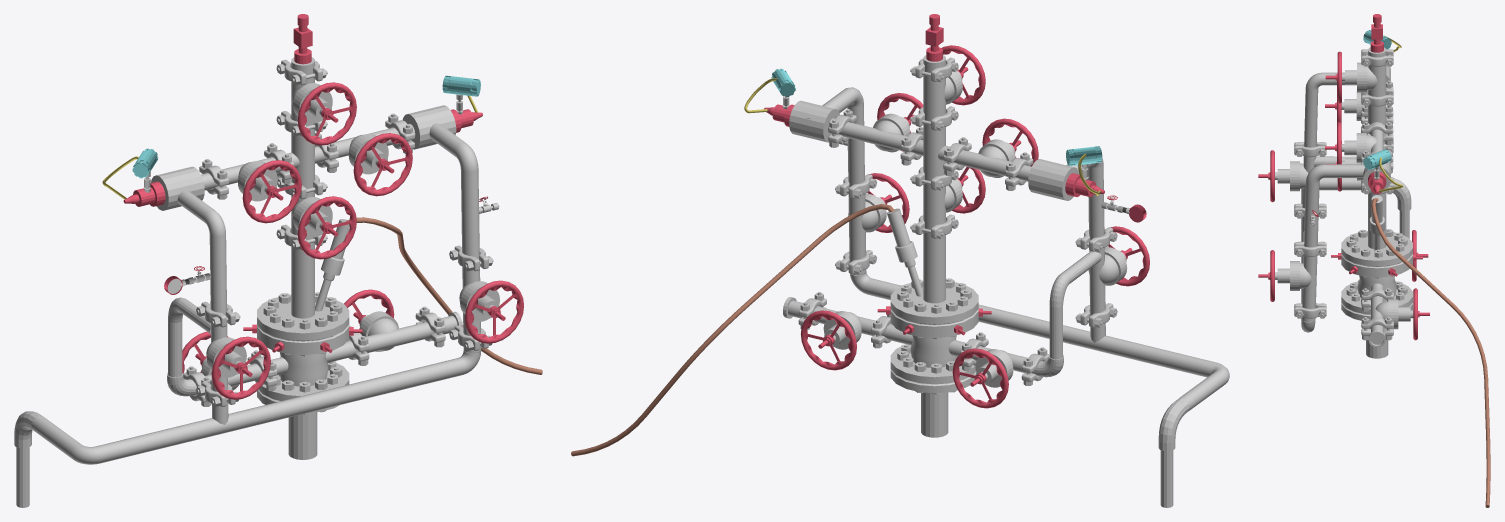
Rendered from shebei1.glb.
3 views of the same model, side by side, from view 1: azimuth 30°, elevation 25°; view 2: azimuth 150°, elevation 25°; view 3: azimuth 270°, elevation 25° (orthographic). The views are drawn at different scales.
Visible parts, largest first — view 1: Line017, Cylinder074, Cylinder079, 对象138, Cylinder076, 对象139, 对象140, Torus005, Torus007, Torus008, Torus006, Torus004 (+7 smaller); view 2: Line017, Cylinder074, Cylinder079, 对象138, Cylinder076, Line018, 对象139, Cylinder075, Torus010, Torus011, 对象140, Torus008 (+7 smaller); view 3: 对象138, 对象139, Cylinder074, Line018, 对象140, Line017, Cylinder075, Torus007, Torus009, Torus008, Torus010, Cylinder079 (+6 smaller).
Part boxes in pixels (x1,y1,x2,y2): Line017: [14, 350, 481, 507]; Cylinder074: [279, 57, 328, 459]; Cylinder079: [123, 105, 482, 210]; 对象138: [243, 292, 362, 356]; Cylinder076: [167, 297, 462, 396]; 对象139: [429, 123, 481, 352]; 对象140: [177, 190, 228, 424]; Torus005: [348, 133, 412, 196]; Torus007: [459, 280, 523, 343]; Torus008: [206, 336, 270, 399]; Torus006: [292, 196, 356, 259]; Torus004: [238, 160, 301, 223]; Line017: [850, 271, 1229, 507]; Cylinder074: [910, 55, 957, 437]; Cylinder079: [764, 100, 1104, 200]; 对象138: [877, 278, 991, 339]; Cylinder076: [783, 251, 1101, 377]; Line018: [571, 204, 923, 456]; 对象139: [806, 87, 866, 275]; Cylinder075: [890, 344, 976, 394]; Torus010: [800, 310, 861, 370]; Torus011: [952, 348, 1013, 408]; 对象140: [1066, 158, 1105, 342]; Torus008: [1088, 226, 1149, 286]; 对象138: [1331, 229, 1422, 278]; 对象139: [1302, 164, 1388, 322]; Cylinder074: [1357, 47, 1396, 358]; Line018: [1369, 195, 1490, 507]; 对象140: [1301, 72, 1356, 231]; Line017: [1301, 178, 1411, 332]; Cylinder075: [1341, 279, 1412, 320]; Torus007: [1258, 250, 1311, 301]; Torus009: [1325, 51, 1377, 103]; Torus008: [1258, 150, 1308, 202]; Torus010: [1375, 288, 1429, 340]; Cylinder079: [1363, 65, 1390, 194].
Bounding box in the file's own units: 0.1237 × 0.099 × 0.0555.
